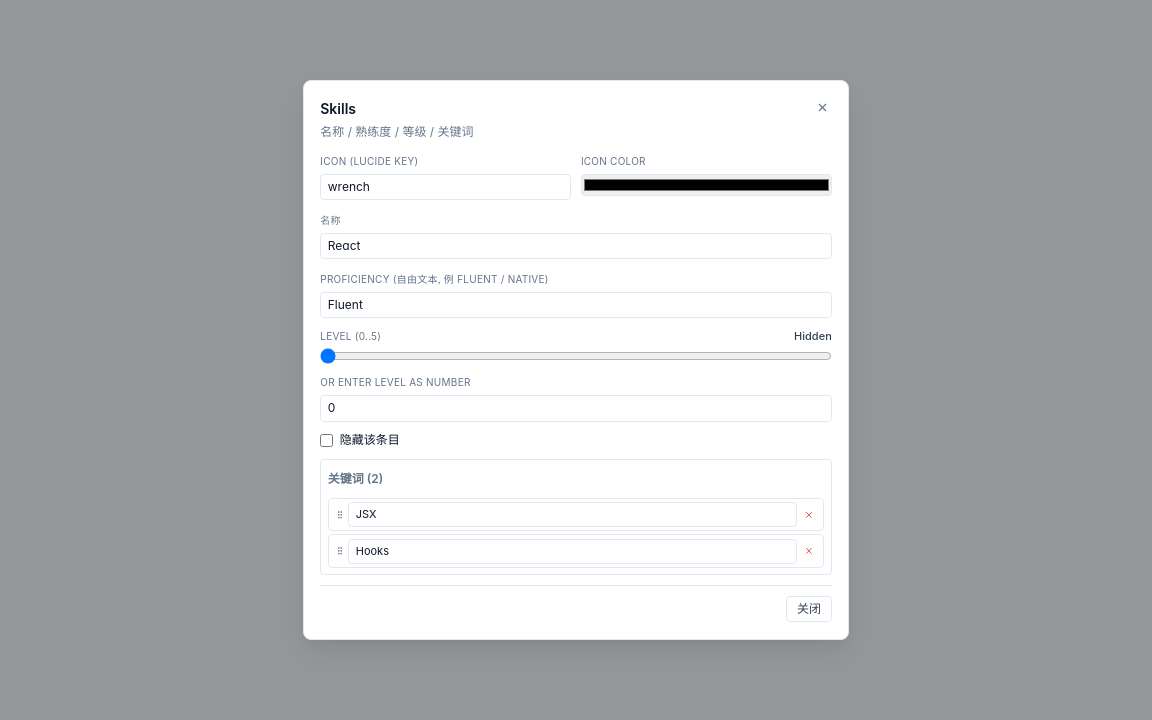
Test: SkillsDialog (AC-06, AC-10, AC-13b, AC-14, AC-16) › level=0 displays 'Hidden' label, level=3 displays '3 / 5' (AC-10, R3)
The image size is (1152, 720).
Expected: the text with test id "skills-level-label" reads "Hidden", [794, 329, 832, 343]
// Change to 3
Step 1. Set the slider with test id "skills-level" to "3" → (626, 356), box [320, 348, 832, 364]
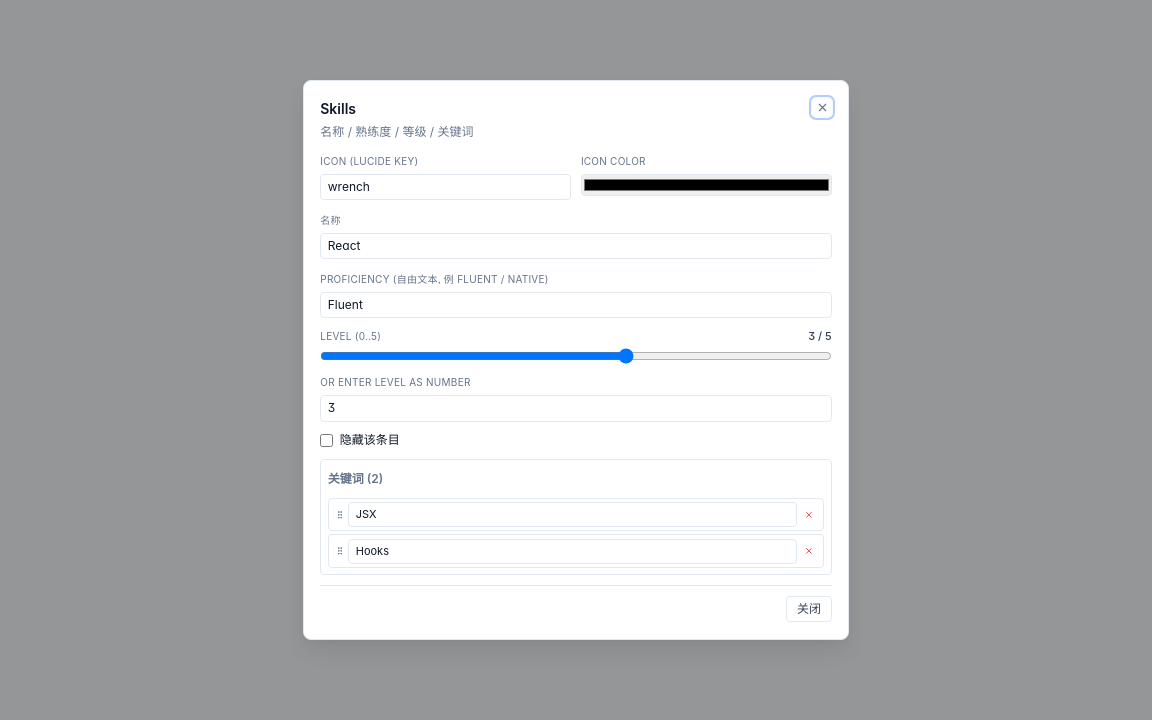
Expected: the text with test id "skills-level-label" reads "3 / 5", [808, 329, 832, 343]
